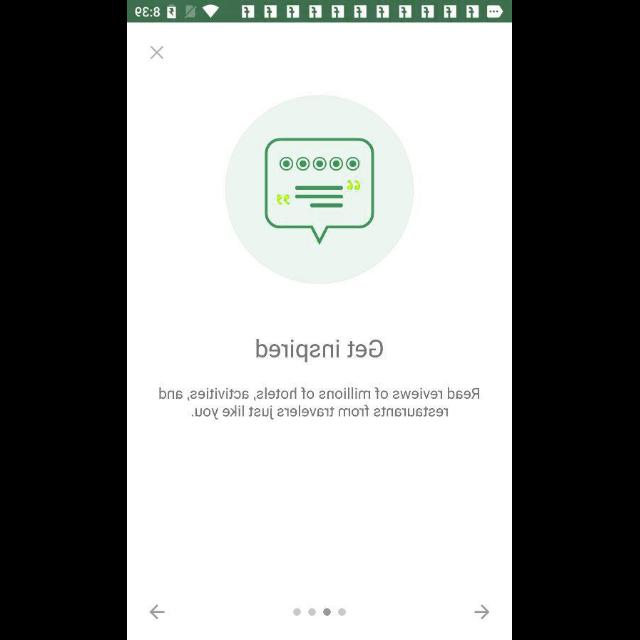icon: (150, 604, 166, 620), (474, 604, 490, 620), (150, 46, 163, 60)
image: (226, 96, 414, 284)
pageindicator: (293, 608, 347, 616)
text: (159, 386, 479, 419), (256, 339, 384, 363)
uppertaskbar: (128, 1, 512, 23)
